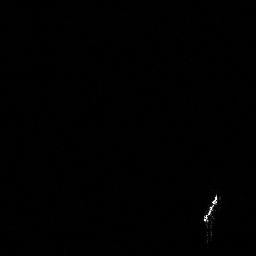ship: (198, 190, 224, 227)
